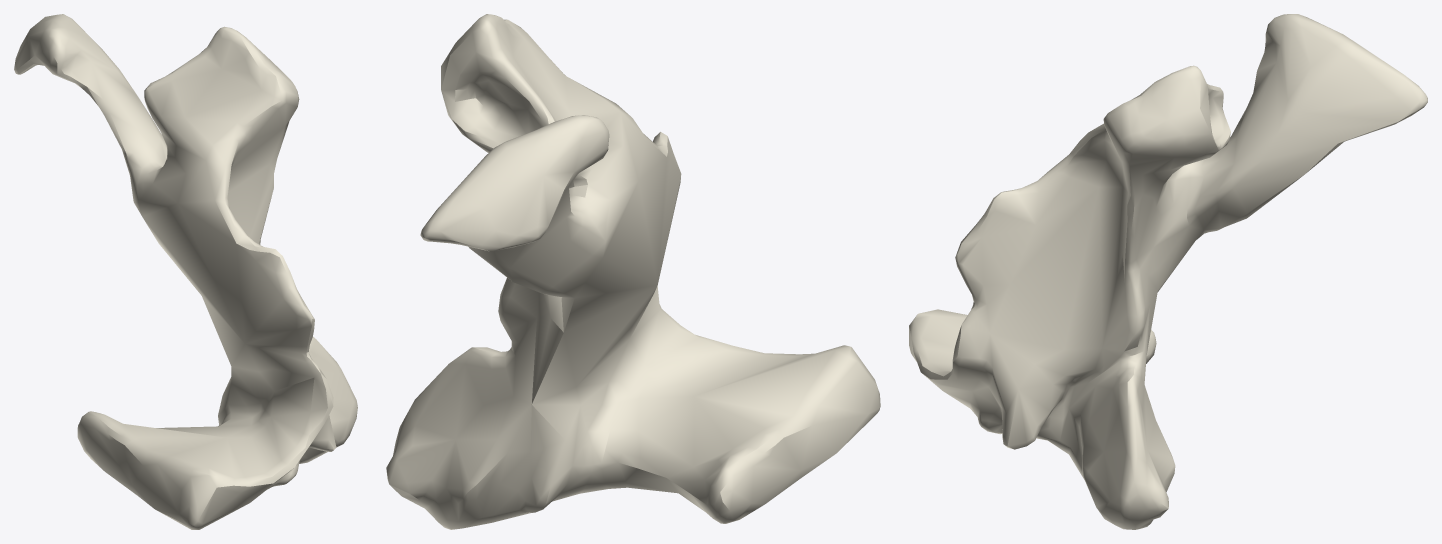
File: fma53656_fj3273.glb
The picture shows the model from 3 angles, left to right: view 1: azimuth 30°, elevation 25°; view 2: azimuth 150°, elevation 25°; view 3: azimuth 270°, elevation 25°; orthographic projection. The views are drawn at different scales.
Parts seen in each view (by area): view 1: FMA53656_FJ3273; view 2: FMA53656_FJ3273; view 3: FMA53656_FJ3273.
Boxes of the visible parts, x1,y1,x2,y2 form: FMA53656_FJ3273: (14, 14, 357, 529); FMA53656_FJ3273: (386, 14, 880, 529); FMA53656_FJ3273: (909, 14, 1427, 529).
Bounding box in the file's own units: 0.029 × 0.0432 × 0.0466.
